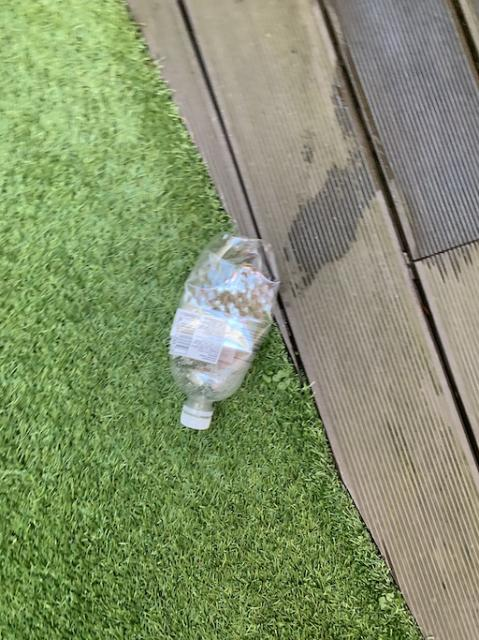plastic: (169, 232, 277, 428)
